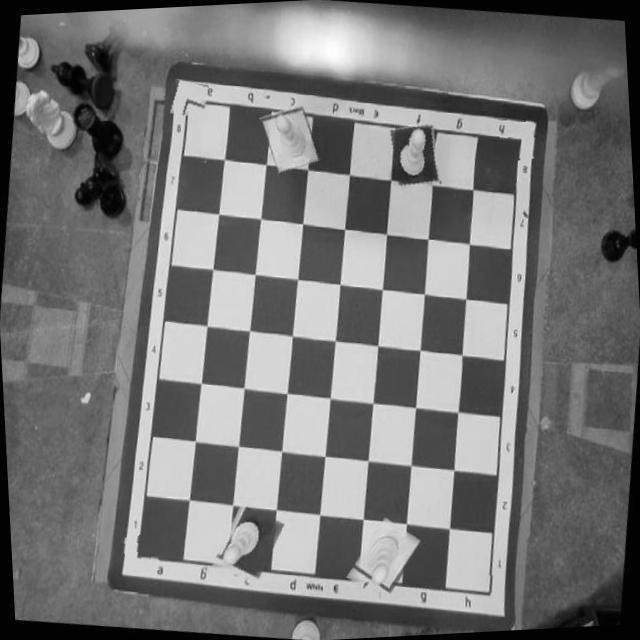chess-table-corners: (164, 78, 208, 118), (498, 116, 536, 162), (122, 534, 160, 570), (470, 575, 504, 611)
